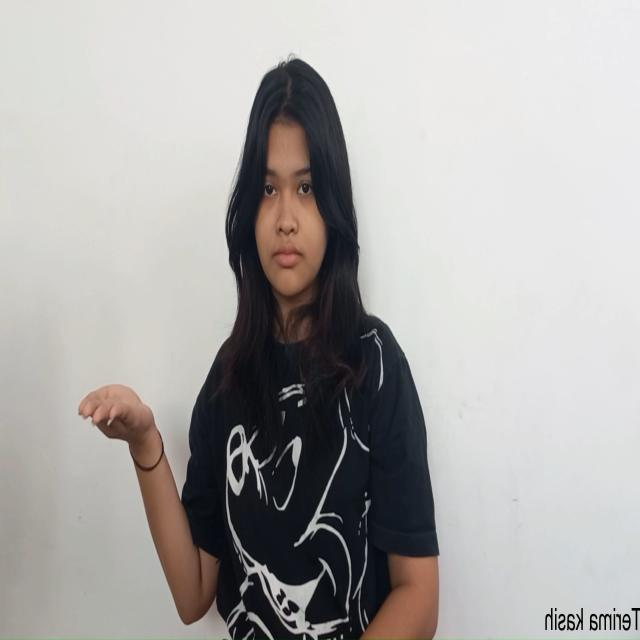Terima kasih -BISINDO-: (75, 378, 158, 456)
